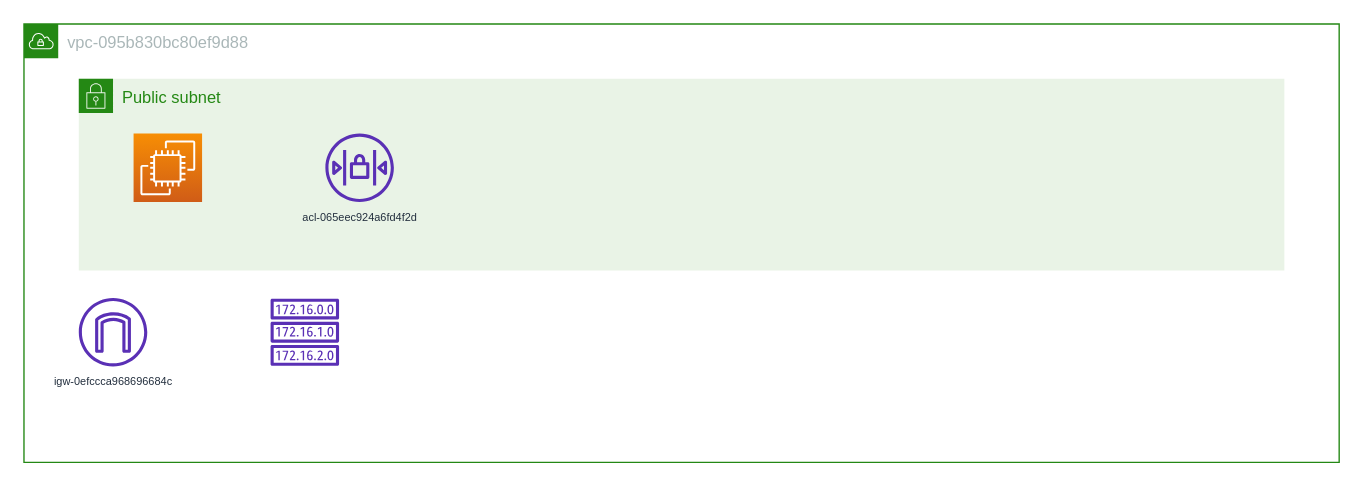
Some shapes in this 1363 by 486 pixel diagram are drawn without their labels. Here are the shapes that lost their labels. From the top down, the centre of each, then its label:
At point 167,167: "web".
At point 304,331: "rtb-020ebb2ed3fd7c96e".
